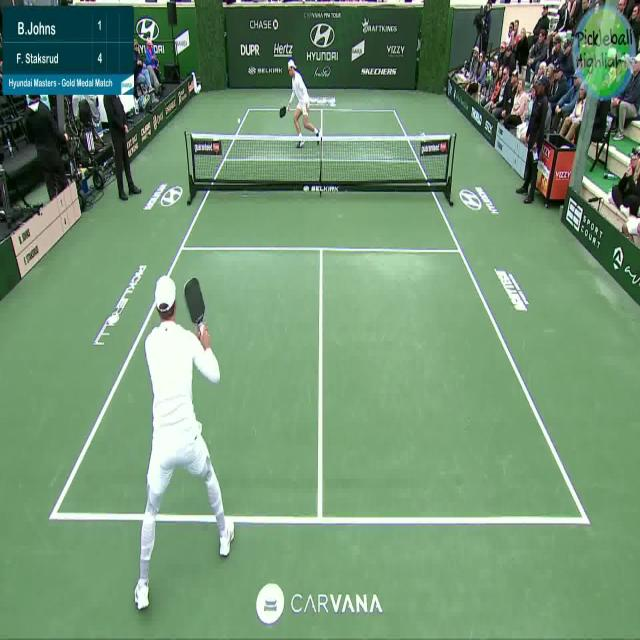ball: (235, 111, 245, 129)
